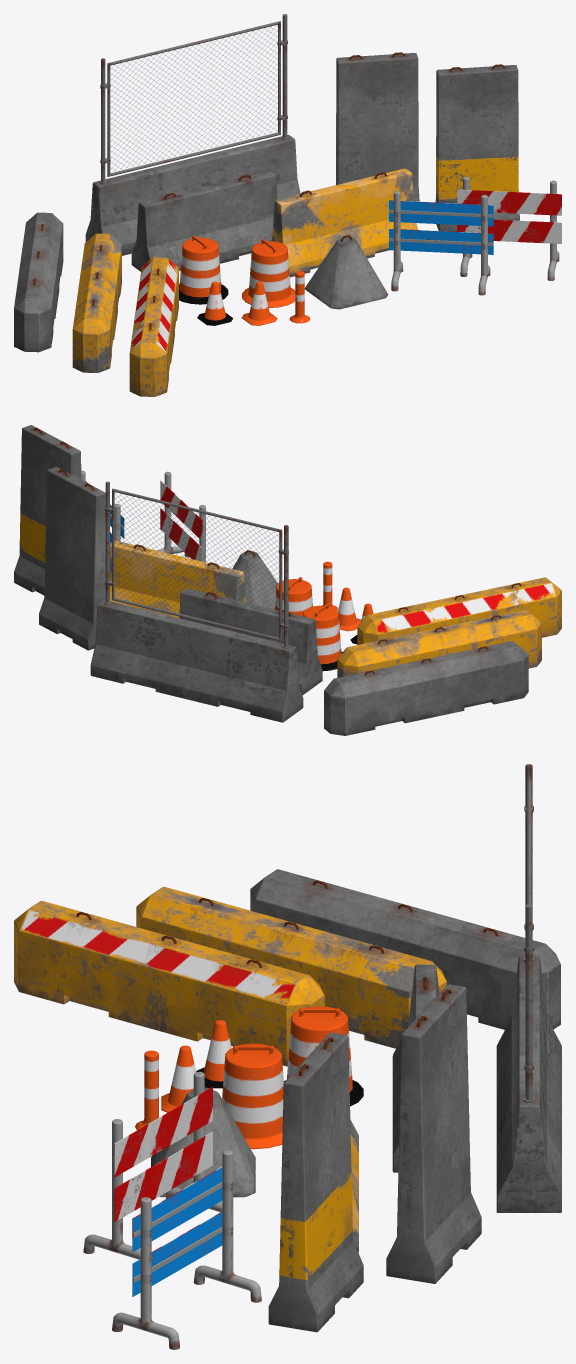
Rendered from traffic_barriers_cones.glb.
3 renders of one model, top to bottom at view 1: azimuth 30°, elevation 25°; view 2: azimuth 150°, elevation 25°; view 3: azimuth 270°, elevation 25°, orthographic. The views are drawn at different scales.
Parts seen in each view (by area): view 1: Object_9, Object_12, Object_11, Object_6, Object_7, Object_15, Object_17, Object_16, Object_19, Object_8, Object_18, Object_4 (+5 smaller); view 2: Object_9, Object_15, Object_11, Object_17, Object_16, Object_7, Object_12, Object_8, Object_6, Object_19, Object_4, Object_14 (+4 smaller); view 3: Object_17, Object_11, Object_12, Object_15, Object_16, Object_9, Object_18, Object_19, Object_13, Object_4, Object_14, Object_6 (+4 smaller).
Boxes of the visible parts, x1,y1,x2,y2 form: Object_9: (85,14,300,255); Object_12: (435,64,519,231); Object_11: (336,52,419,201); Object_6: (131,170,277,271); Object_7: (271,168,417,277); Object_15: (14,212,63,352); Object_17: (129,257,178,396); Object_16: (72,233,121,372); Object_19: (389,191,493,295); Object_8: (110,25,277,171); Object_18: (457,176,561,280); Object_4: (304,235,388,309); Object_9: (90,481,303,722); Object_15: (324,641,528,735); Object_11: (39,467,105,650); Object_17: (357,577,561,644); Object_16: (337,609,541,677); Object_7: (110,540,245,617); Object_12: (14,425,81,595); Object_8: (114,492,278,637); Object_6: (179,588,322,695); Object_19: (157,471,205,562); Object_4: (232,550,277,609); Object_14: (303,603,342,671); Object_17: (14,900,324,1066); Object_11: (386,984,481,1283); Object_12: (268,1032,363,1332); Object_15: (250,869,560,1029); Object_16: (136,886,446,1048); Object_9: (496,764,561,1212); Object_18: (112,1150,261,1349); Object_19: (83,1071,222,1259); Object_13: (222,1043,283,1149); Object_4: (151,1086,255,1197); Object_14: (284,1006,363,1106); Object_6: (392,964,439,1172).
Bounding box in the file's own units: 6.84 × 2.59 × 4.03.
Materials: 17 (17 with a texture image).
